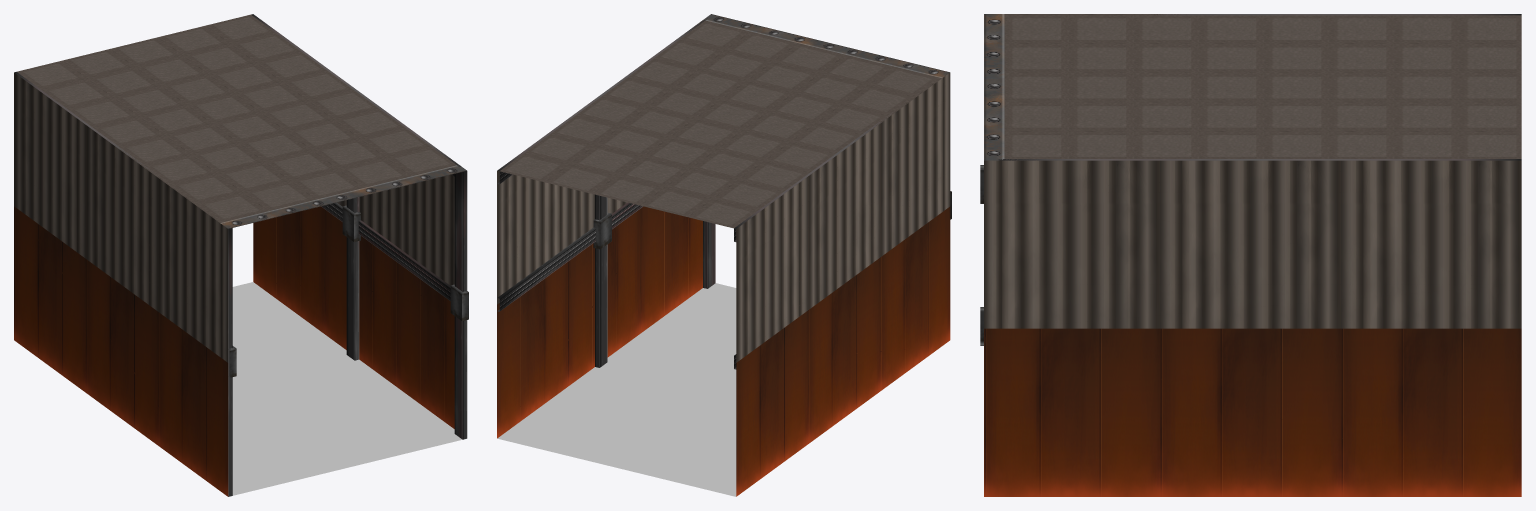
File: molten_hall_straight.fbx
3 views of the same model, side by side, from view 1: azimuth 30°, elevation 25°; view 2: azimuth 150°, elevation 25°; view 3: azimuth 270°, elevation 25° (orthographic). The views are drawn at different scales.
Visible parts, largest first — view 1: hall_straight, Lava, ReinforcedBars; view 2: hall_straight, Lava, ReinforcedBars; view 3: hall_straight, ReinforcedBars.
Boxes of the visible parts, bbox=[...] form: hall_straight: bbox=[14, 14, 466, 496]; Lava: bbox=[232, 282, 462, 495]; ReinforcedBars: bbox=[14, 14, 468, 496]; hall_straight: bbox=[497, 14, 950, 496]; Lava: bbox=[497, 283, 736, 496]; ReinforcedBars: bbox=[497, 18, 951, 369]; hall_straight: bbox=[984, 14, 1521, 496]; ReinforcedBars: bbox=[980, 14, 1521, 345].
Bounding box in the file's own units: 1813 × 1942 × 2832.
